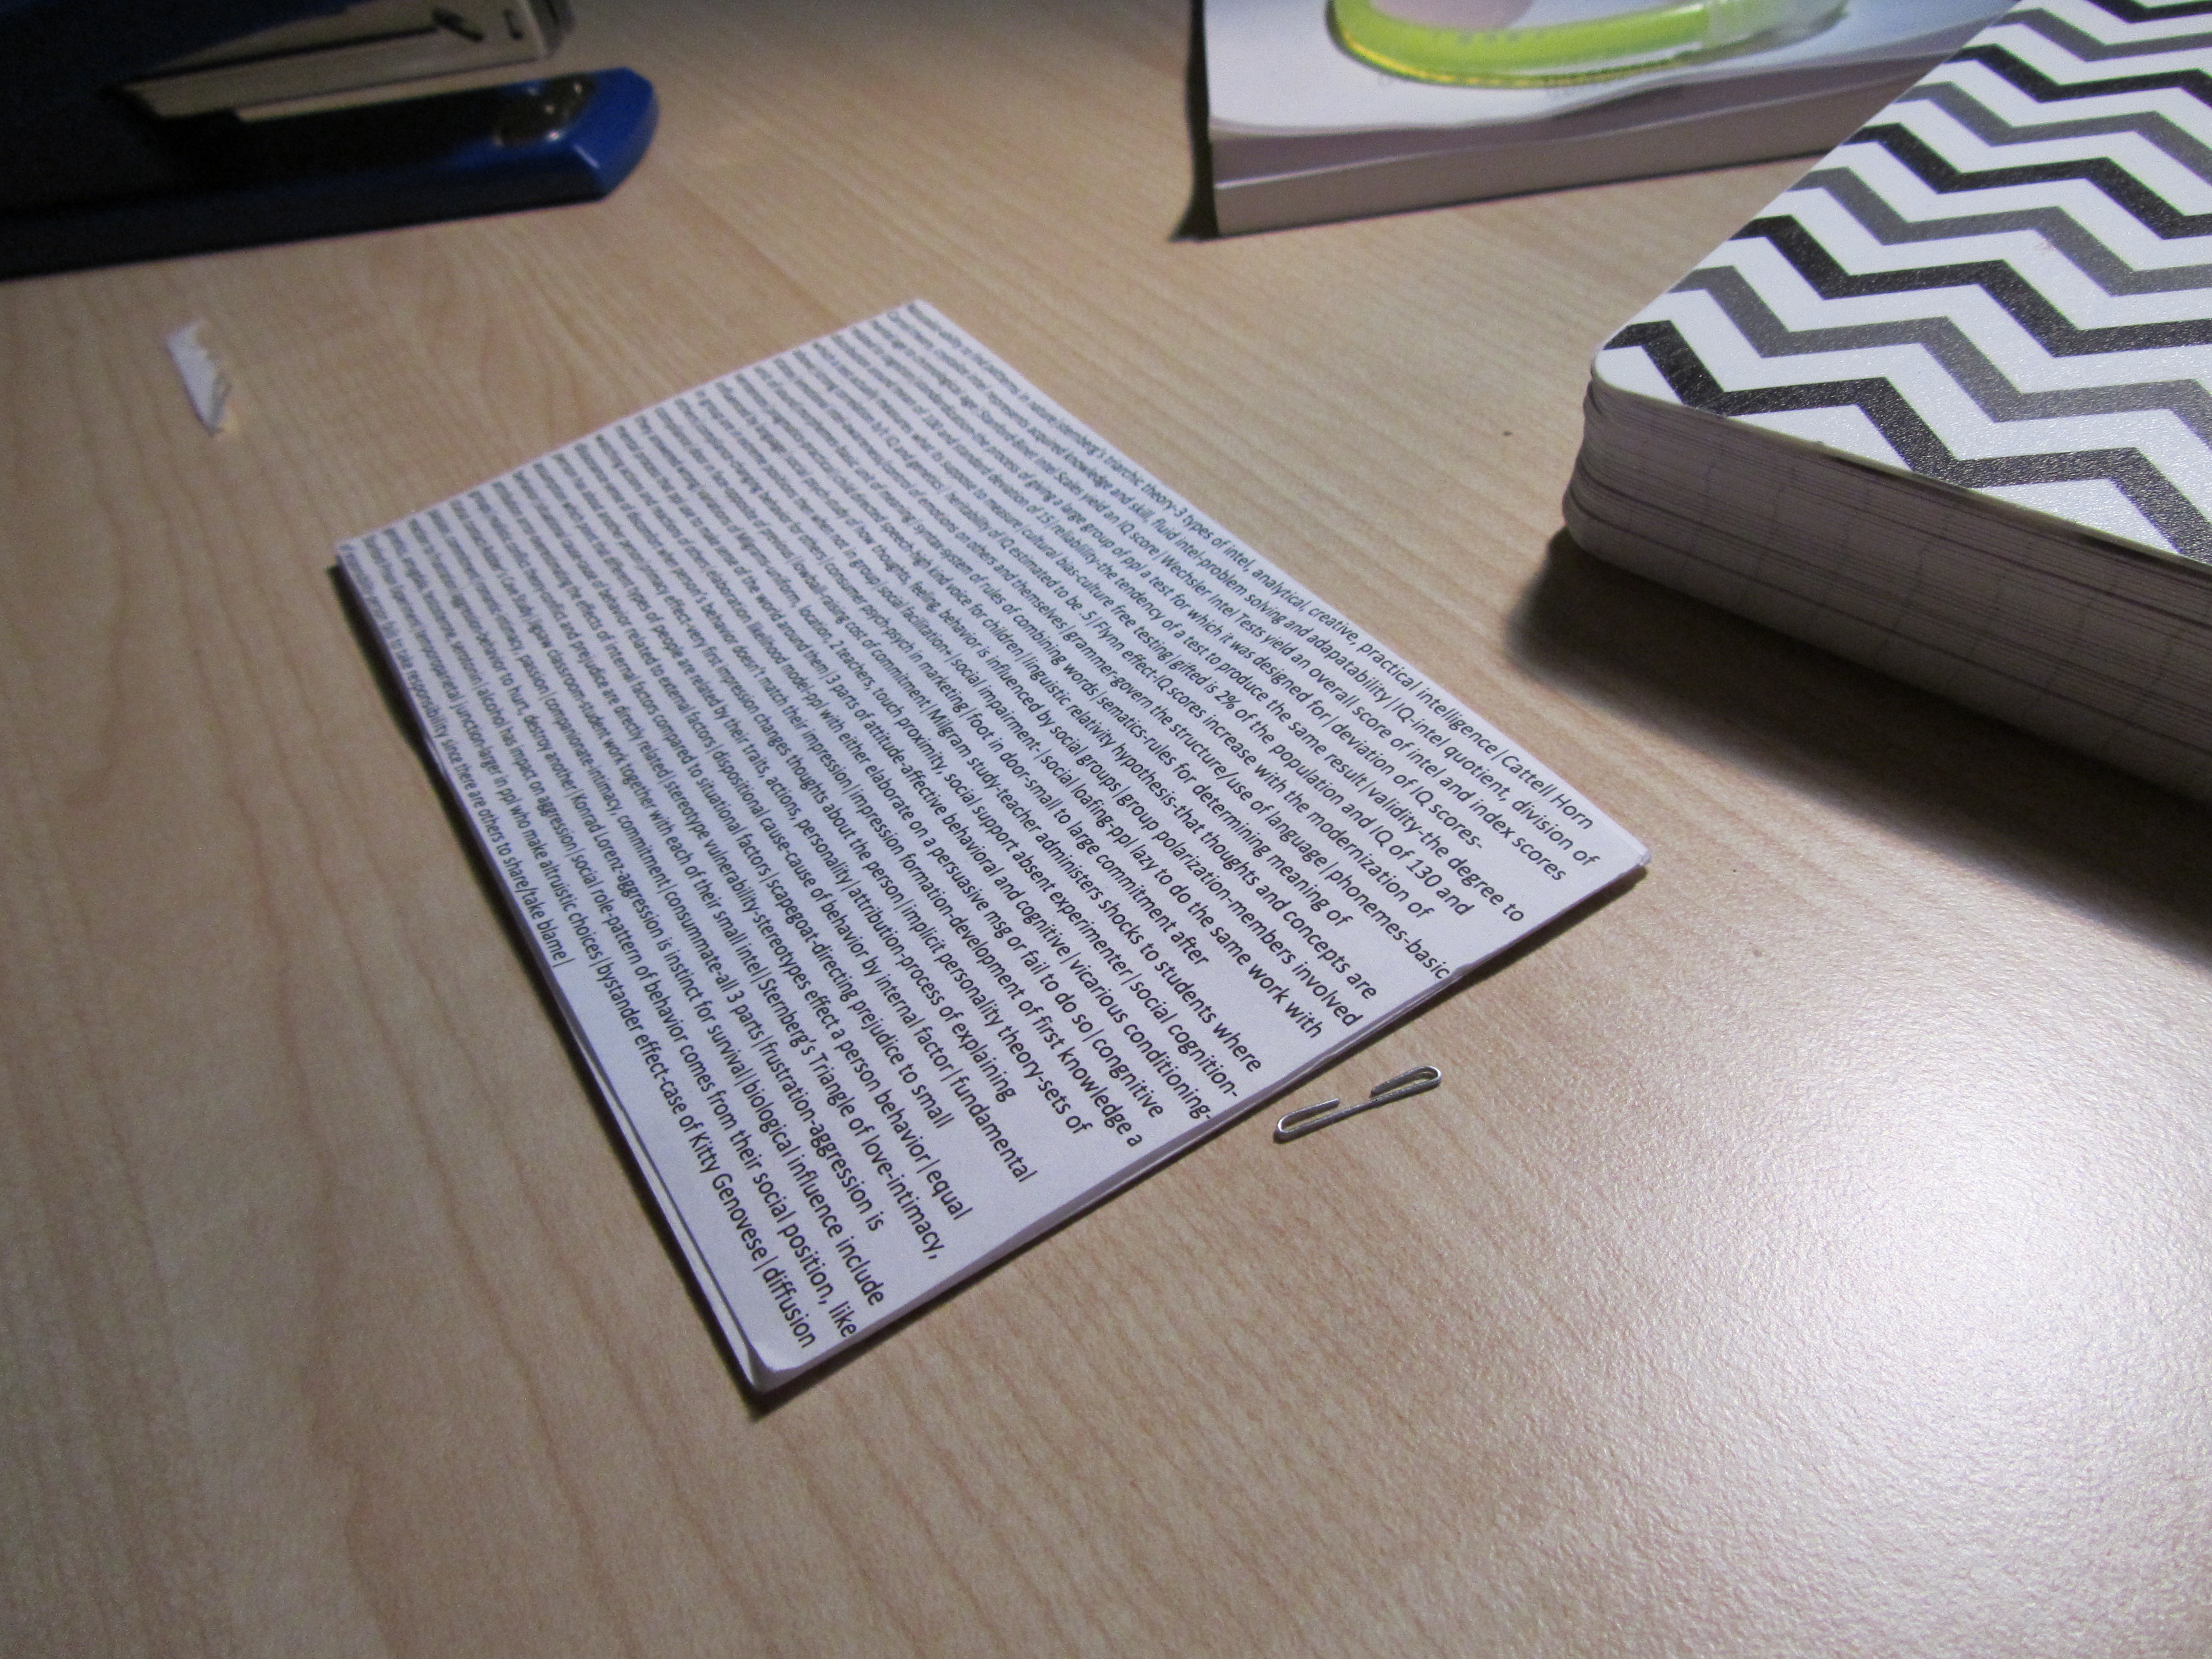Note: (340, 300, 1646, 1406)
